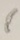microplastic: (4, 8, 18, 35)
